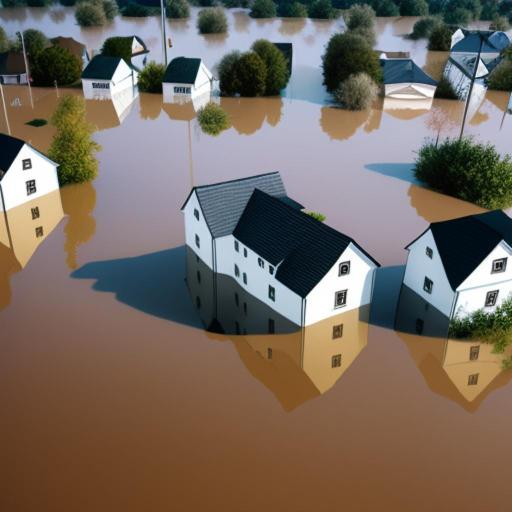flood: (0, 7, 512, 512), (0, 6, 160, 60), (376, 18, 449, 79), (2, 84, 58, 153), (466, 90, 512, 155), (86, 100, 120, 129), (58, 88, 82, 96)
house: (229, 185, 383, 325), (173, 163, 306, 277), (388, 218, 510, 332), (440, 24, 508, 110), (1, 130, 63, 214), (82, 55, 136, 120), (376, 54, 439, 104), (161, 54, 213, 112), (2, 43, 32, 90)
